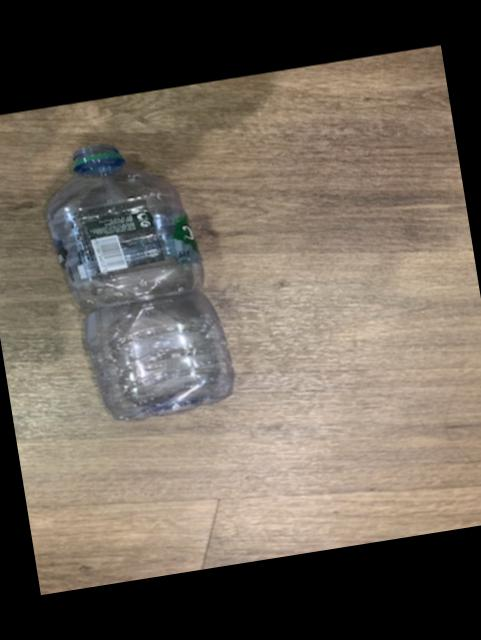plastic: (42, 143, 229, 418)
